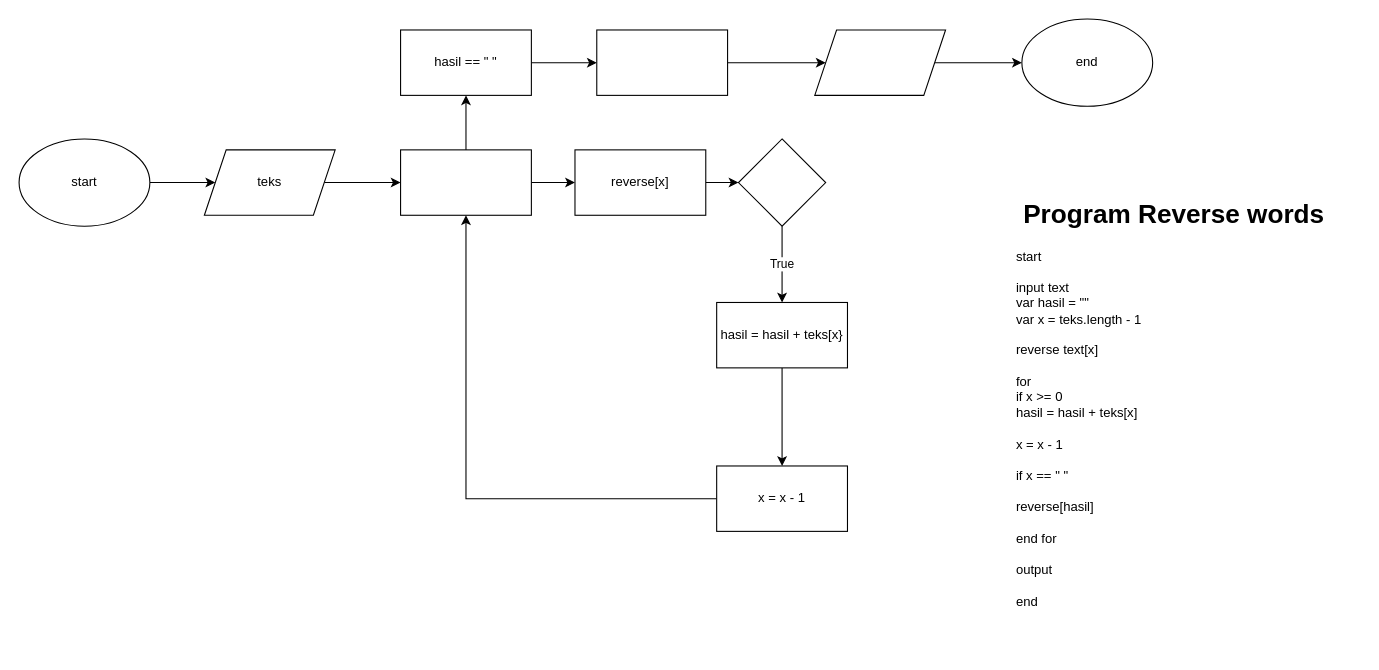
Some shapes in this 1379 by 670 pixel diagram are drawn without their labels. The shapes that lost their labels are listed below. From the top down, each one's centre as x and y in pixels, then its label:
point 662,62: reverse[hasil]
point 880,62: output
point 465,182: hasil = "" x = teks.length -1
point 781,182: x >= 0
